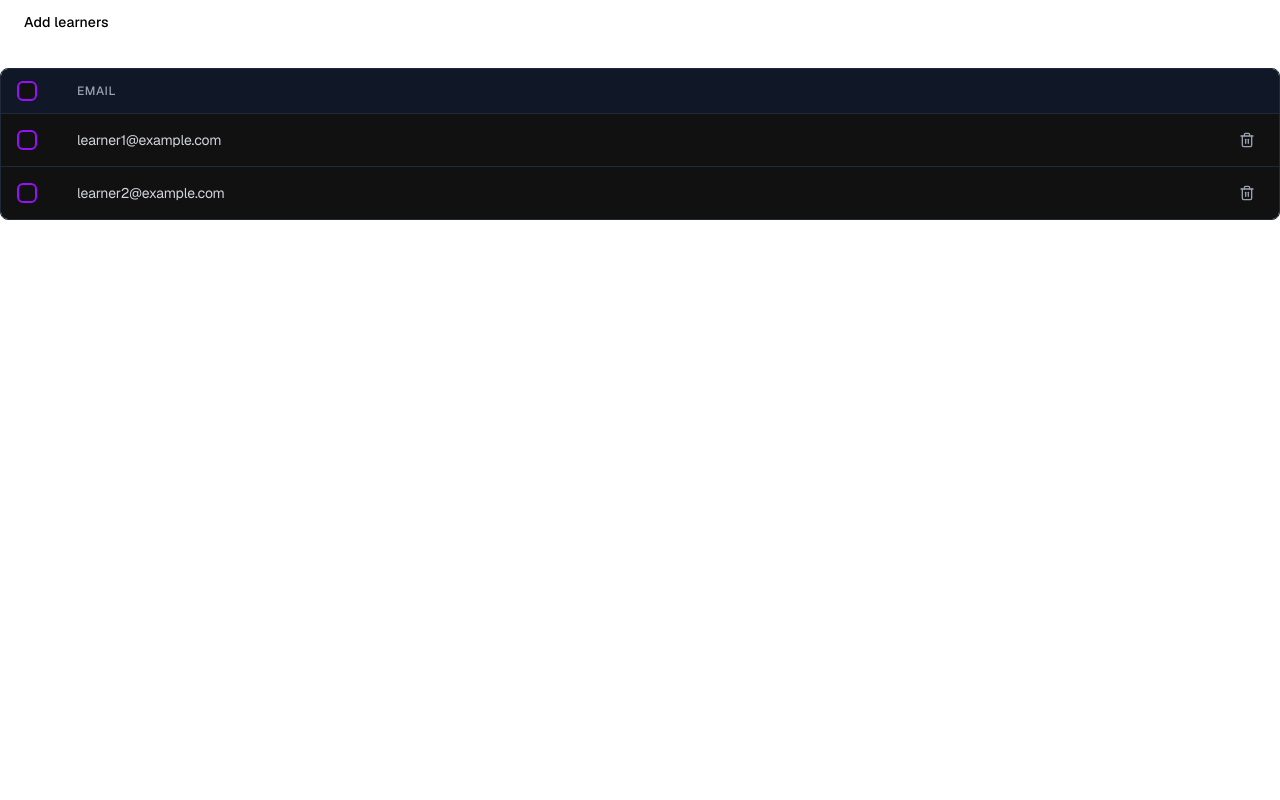
Test case: CohortMemberManagement Component › Email Input Management › removes email input when trash button is clicked
The width and height of the screenshot is (1280, 800).
Step 1. Click the button "Add learners" → (66, 22), box [0, 0, 133, 44]
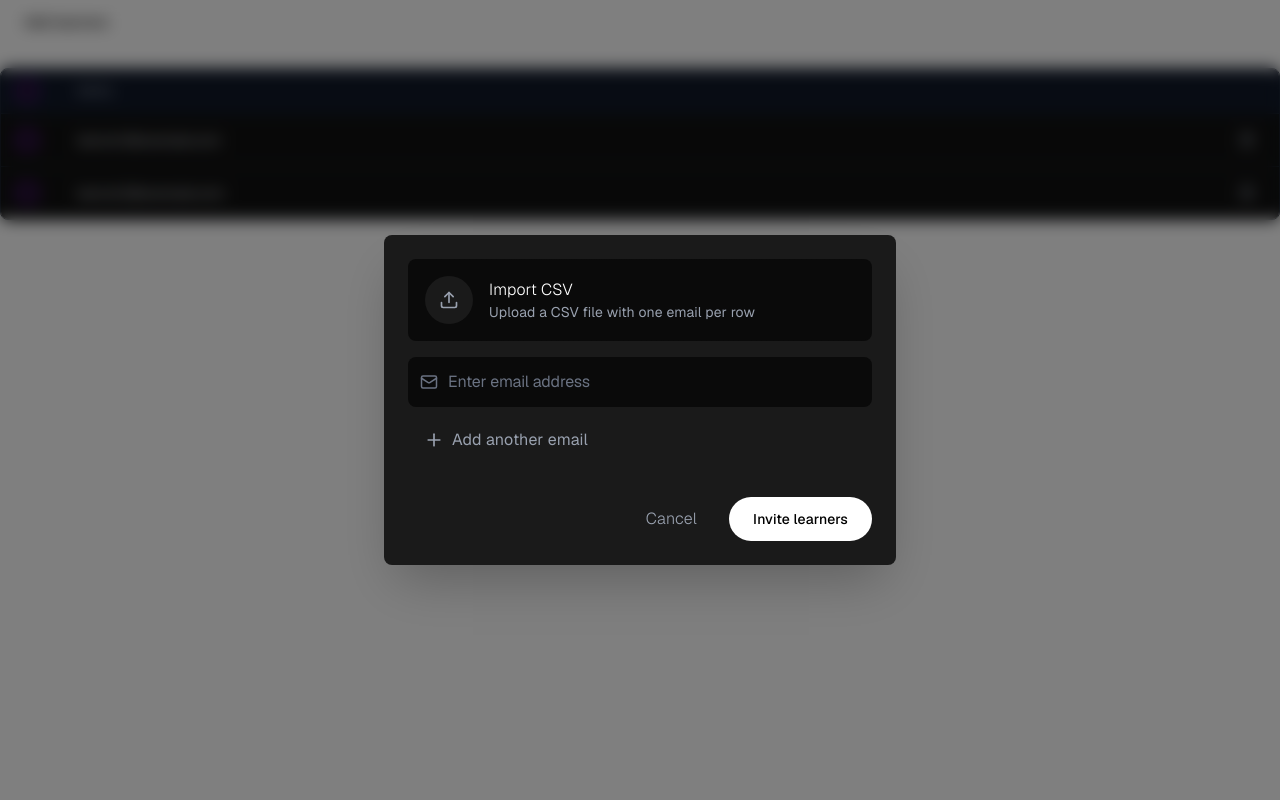
Step 2. Click the button "Add another email" → (520, 440), box [408, 415, 872, 465]
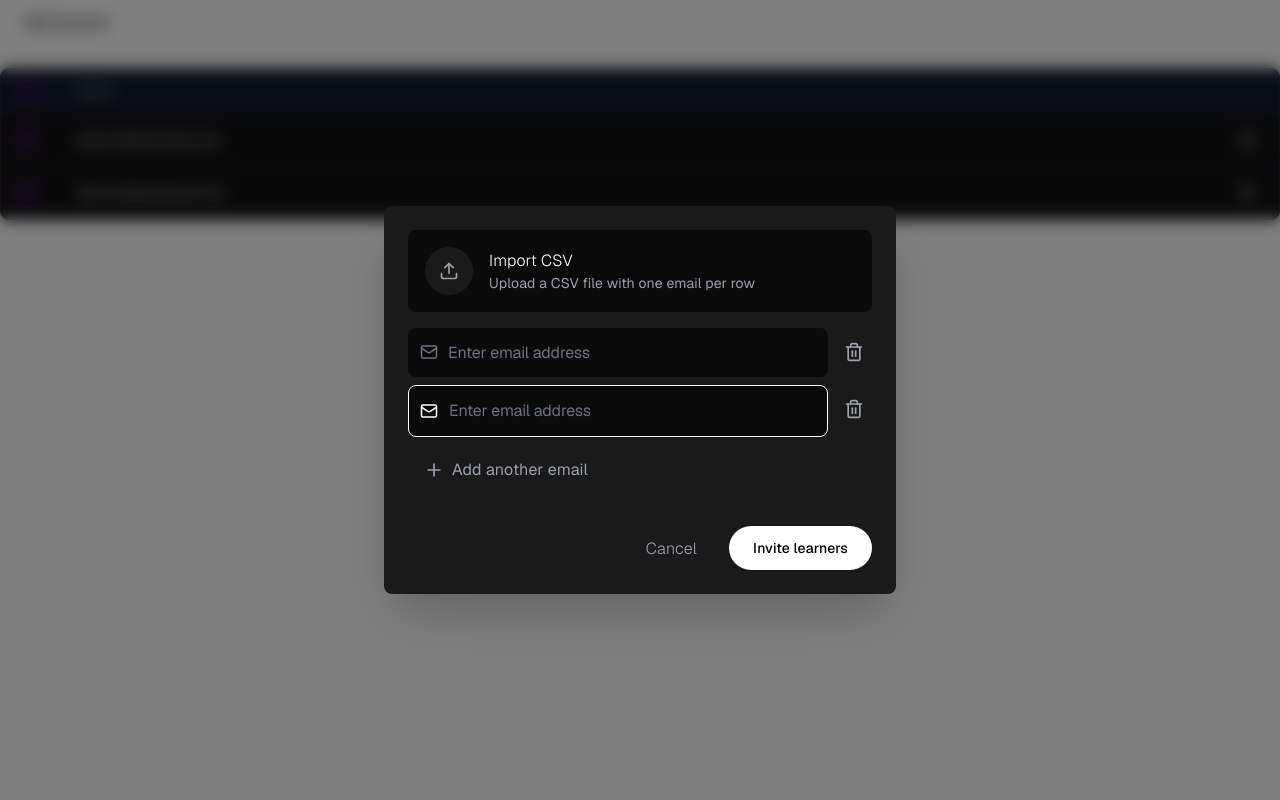
Expected: the number of fields with placeholder "Enter email address" is 2, [408, 328, 828, 377]; [408, 385, 828, 437]
Expected: the 3rd icon with class "lucide-trash2" is shown, [844, 342, 864, 362]
Click the parent button of the first trash icon
Step 3. Click the button with class "lucide-trash2" → (854, 352), box [836, 334, 872, 370]
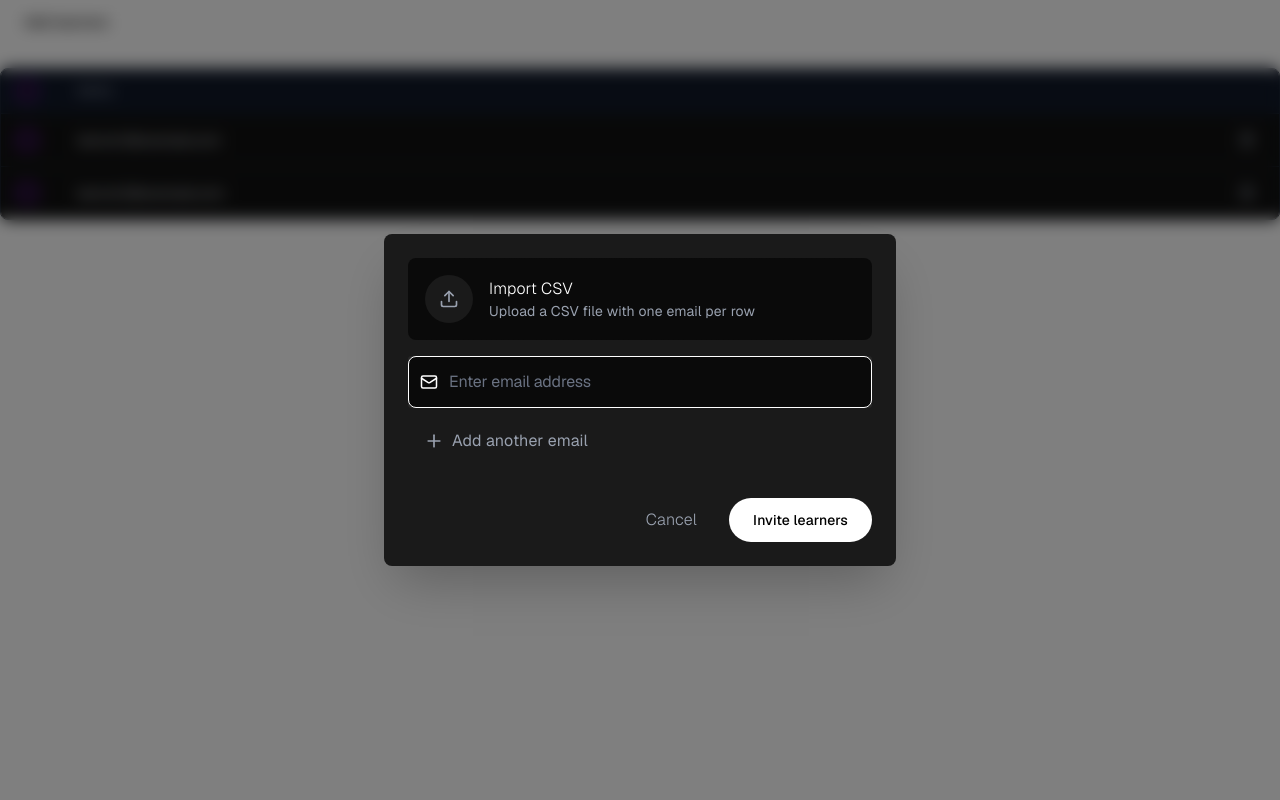
Expected: the number of fields with placeholder "Enter email address" is 1, [408, 356, 872, 408]
